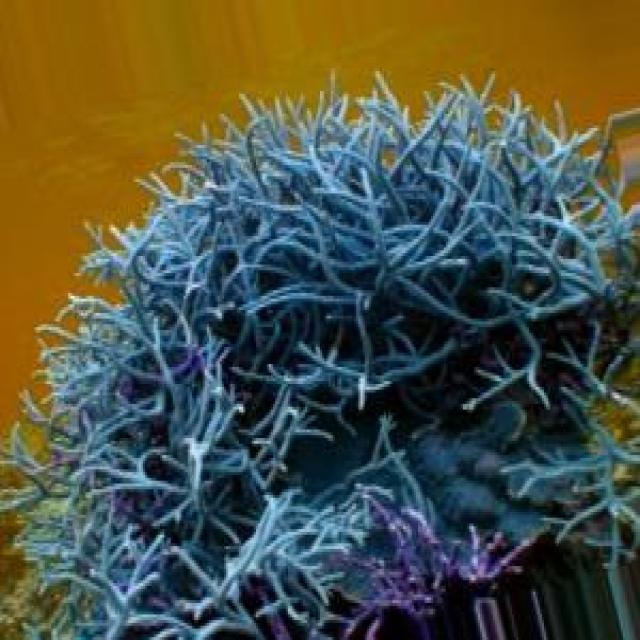Bleached: (1, 78, 640, 640)
